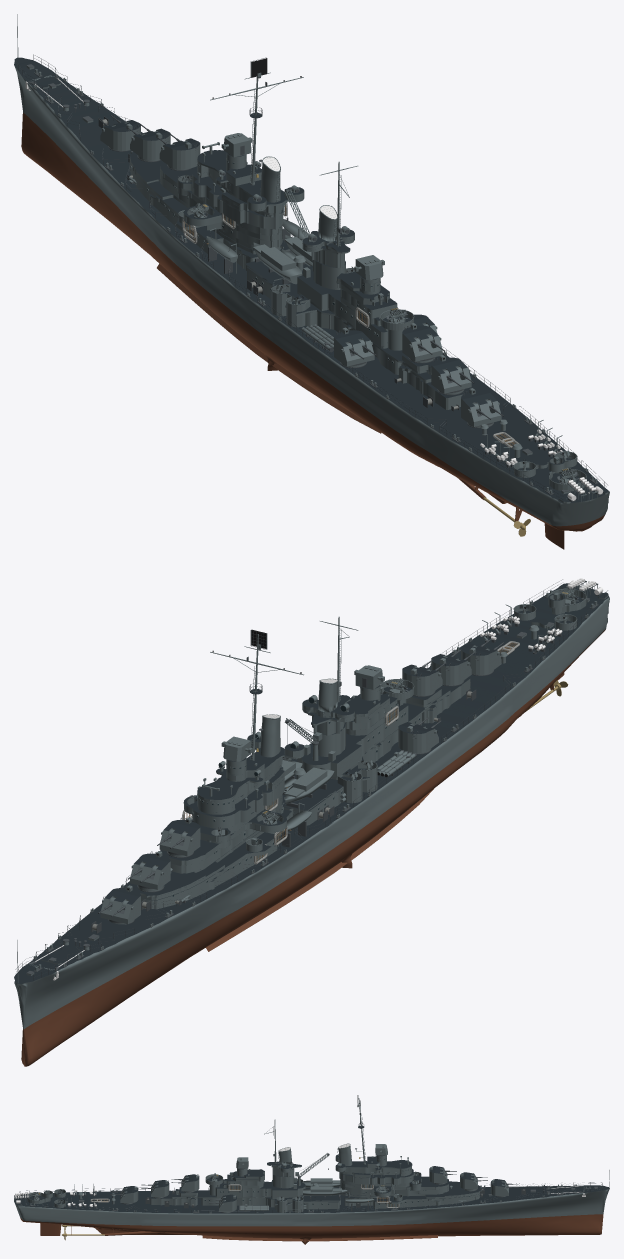
Rendered from atlanta.glb.
3 views of the same model, one above another, from view 1: azimuth 30°, elevation 25°; view 2: azimuth 150°, elevation 25°; view 3: azimuth 270°, elevation 25° (orthographic). The views are drawn at different scales.
Visible parts, largest first — view 1: Blueprint lofted hull, midships-05.mesh, railings.mesh, bridge-08.mesh, bilge-keels.mesh, midships-01.mesh, main-6.yaw.mesh, main-7.yaw.mesh, main-8.yaw.mesh, main-4.yaw.mesh, motor-launch-port.mesh, bridge-19.mesh (+15 smaller); view 2: Blueprint lofted hull, midships-05.mesh, bridge-08.mesh, bilge-keels.mesh, railings.mesh, bridge-19.mesh, main-3.yaw.mesh, main-2.yaw.mesh, main-1.yaw.mesh, motor-launch-port.mesh, main-4.yaw.mesh, bridge-01.mesh (+16 smaller); view 3: Blueprint lofted hull, midships-05.mesh, bilge-keels.mesh, midships-01.mesh, bridge-08.mesh, forward-deckhouse-01.mesh, railings.mesh, midships-02.mesh, forward-deckhouse-05.mesh, forward-deckhouse-03.mesh, bridge-19.mesh, forward-deckhouse-02.mesh (+25 smaller).
Part boxes in pixels (x1,y1,x2,y2): Blueprint lofted hull: (14,57,609,531); midships-05.mesh: (297,266,387,346); railings.mesh: (15,54,607,499); bridge-08.mesh: (192,167,284,229); bilge-keels.mesh: (157,263,381,433); midships-01.mesh: (247,269,401,374); main-6.yaw.mesh: (402,323,442,361); main-7.yaw.mesh: (431,355,471,393); main-8.yaw.mesh: (461,388,501,426); main-4.yaw.mesh: (334,327,374,366); motor-launch-port.mesh: (253,242,301,284); bridge-19.mesh: (197,150,304,211); Blueprint lofted hull: (14,586,609,1066); midships-05.mesh: (297,703,408,777); bridge-08.mesh: (192,766,284,828); bilge-keels.mesh: (205,789,433,951); railings.mesh: (15,579,607,980); bridge-19.mesh: (197,747,304,801); main-3.yaw.mesh: (159,817,200,856); main-2.yaw.mesh: (130,851,170,889); main-1.yaw.mesh: (100,885,140,924); motor-launch-port.mesh: (284,767,334,808); main-4.yaw.mesh: (398,722,438,753); bridge-01.mesh: (160,801,284,865); Blueprint lofted hull: (14,1185,609,1244); midships-05.mesh: (215,1180,305,1197); bilge-keels.mesh: (202,1235,437,1241); midships-01.mesh: (201,1195,340,1209); bridge-08.mesh: (339,1169,413,1184); forward-deckhouse-01.mesh: (344,1196,479,1208); railings.mesh: (19,1182,602,1212); midships-02.mesh: (171,1188,340,1205); forward-deckhouse-05.mesh: (339,1181,481,1196); forward-deckhouse-03.mesh: (340,1193,479,1203); bridge-19.mesh: (335,1160,412,1171); forward-deckhouse-02.mesh: (311,1186,479,1201).
Bounding box in the file's own units: 16.36 × 42.34 × 165.
16 materials, 12 textured.
